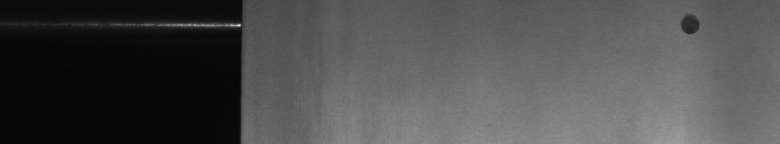fi: (673, 8, 705, 41)
